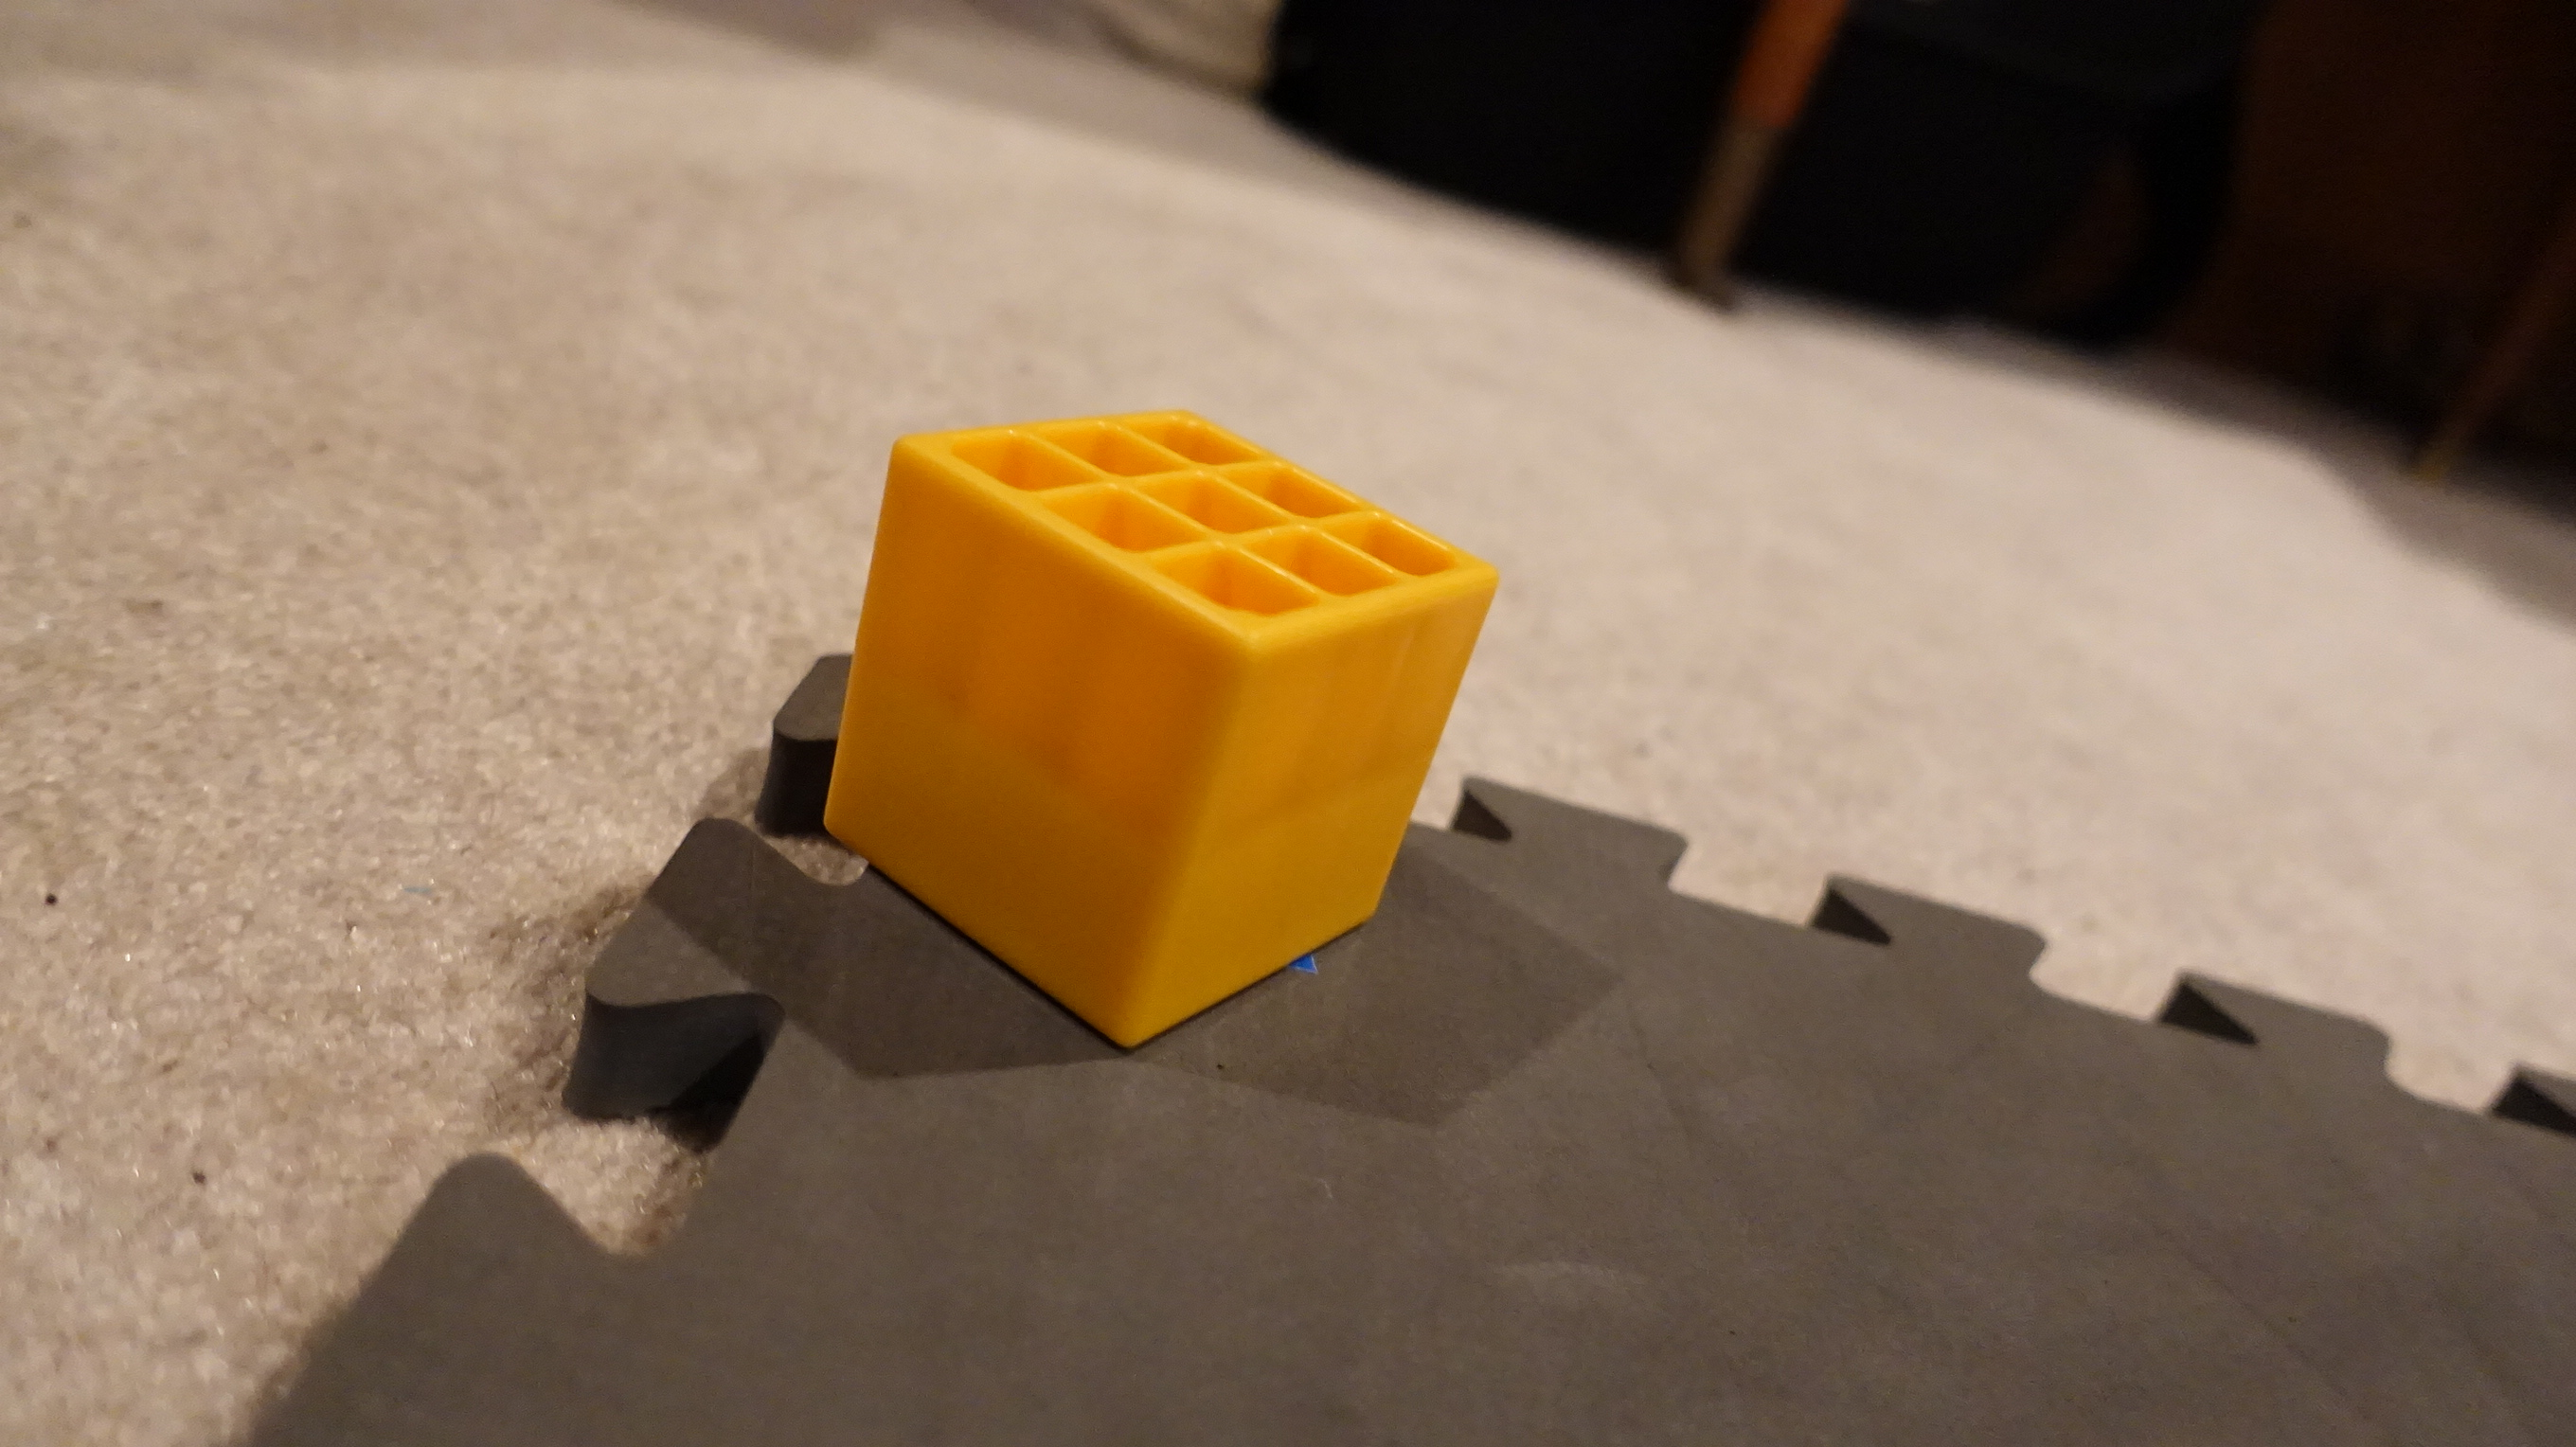gold: (812, 391, 1507, 1065)
